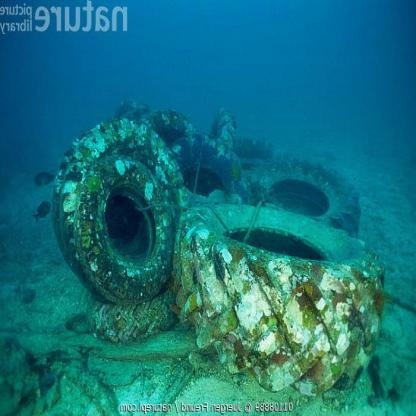tire: (171, 190, 388, 397), (44, 116, 180, 289), (71, 156, 176, 299), (244, 150, 365, 236), (156, 110, 252, 202), (81, 303, 184, 340)
